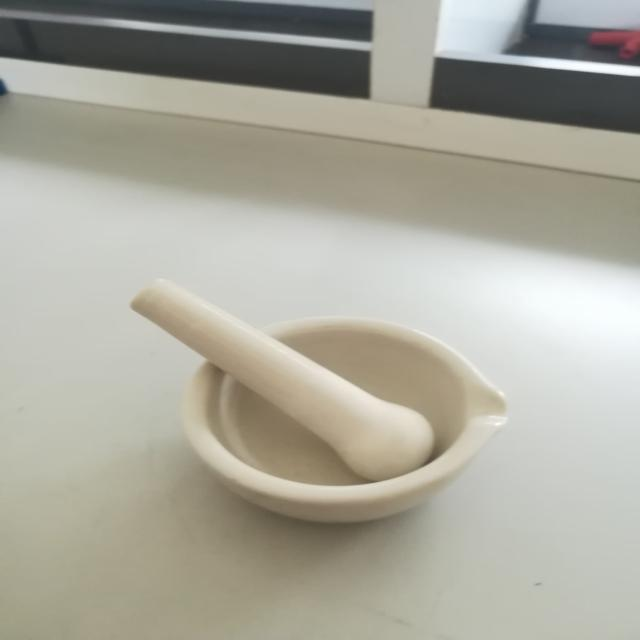Porcelain_Mortar Pestle: (80, 246, 549, 544)
